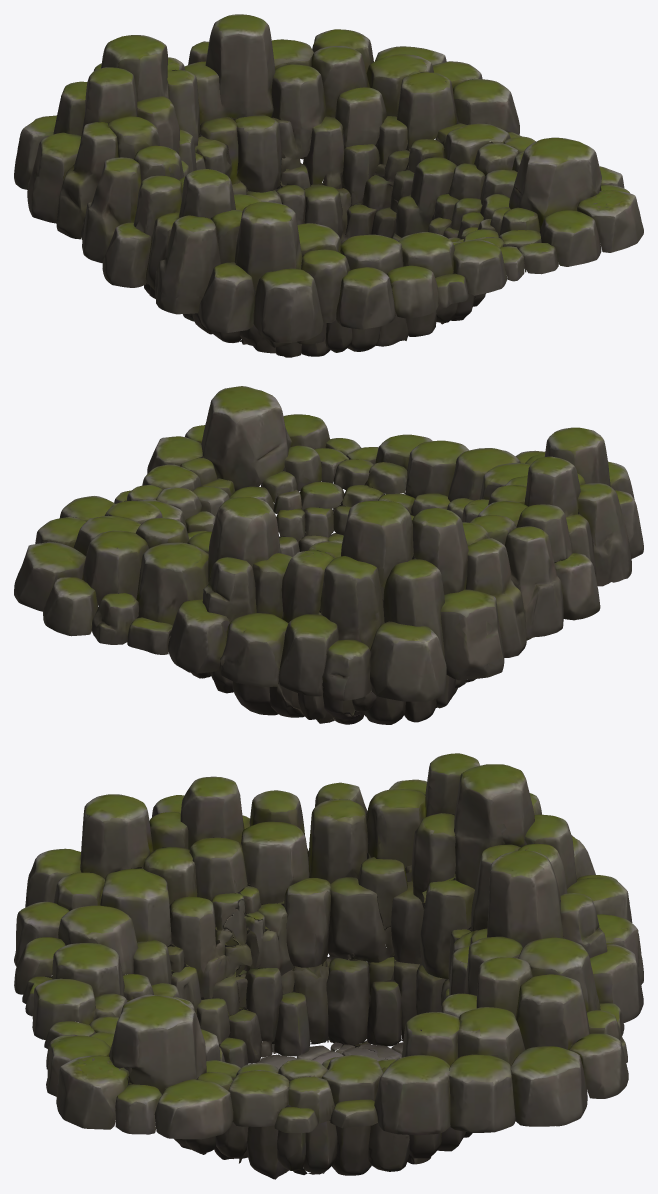
Rendered from rockery.glb.
3 renders of one model, top to bottom at view 1: azimuth 30°, elevation 25°; view 2: azimuth 150°, elevation 25°; view 3: azimuth 270°, elevation 25°, orthographic. The views are drawn at different scales.
Parts seen in each view (by area): view 1: world; view 2: world; view 3: world.
Part boxes in pixels (left/top/right/bottom): world: left=14, top=14, right=643, bottom=357; world: left=14, top=386, right=643, bottom=724; world: left=14, top=753, right=643, bottom=1179.
Size of the model in its own units: 0.9989 by 0.4627 by 0.9908.
Materials: 1 (1 with a texture image).
